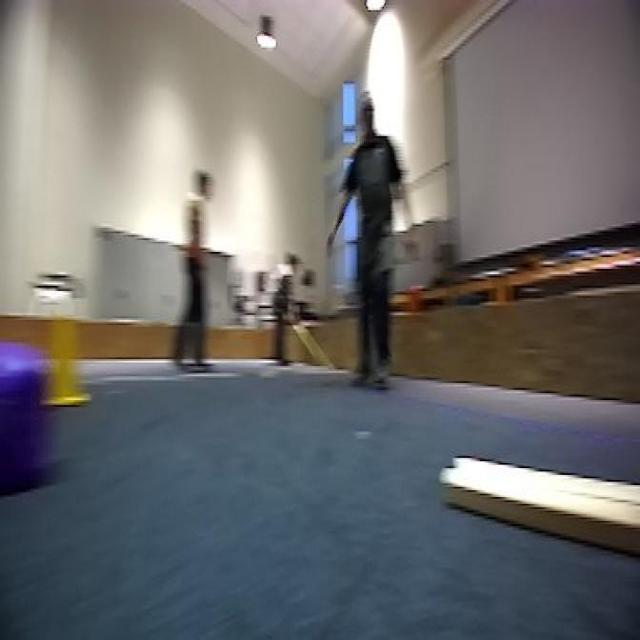frc_cone: (39, 303, 83, 412)
frc_cube: (0, 341, 50, 484)
